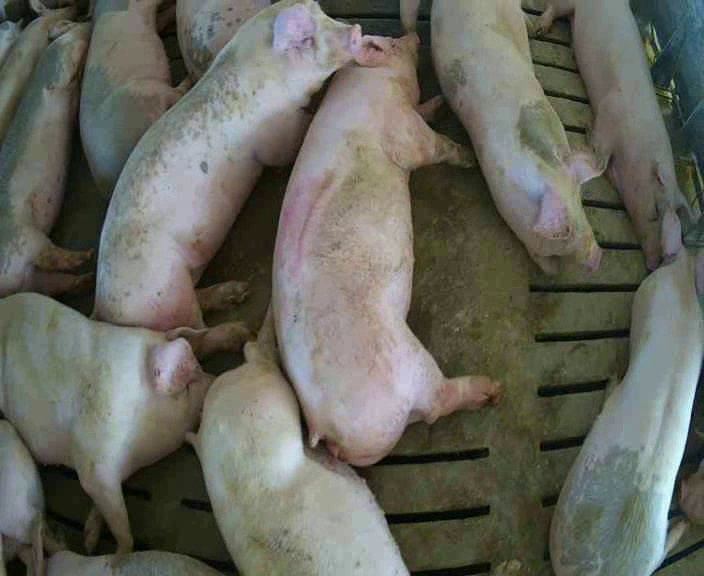pig: (274, 33, 500, 465), (188, 309, 407, 574), (550, 206, 703, 574), (431, 2, 607, 271), (0, 20, 90, 296), (80, 2, 191, 195), (0, 0, 77, 142), (176, 1, 270, 80)
